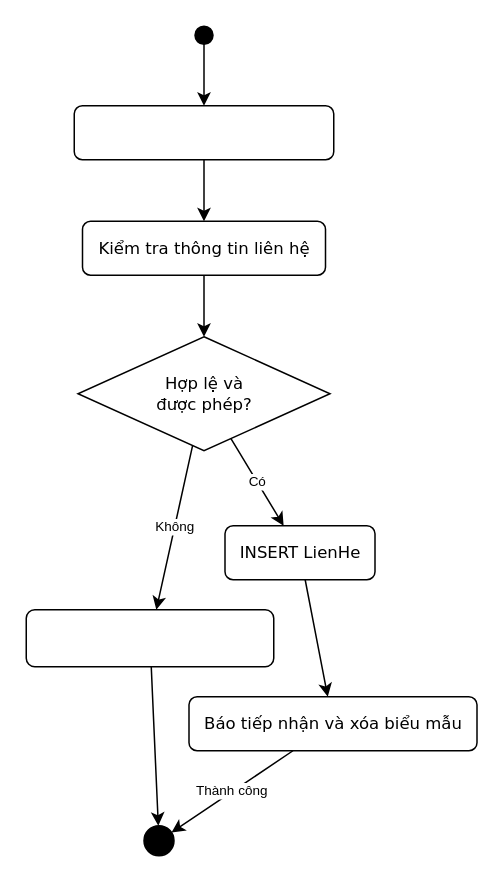
Some shapes in this 504 by 882 pixel diagram are drawn without their labels. Each missing label, with the centre of its shape:
Nhập tên email và nội dung: (203,132)
Thông báo lỗi Không báo lưu thành công: (149,637)
